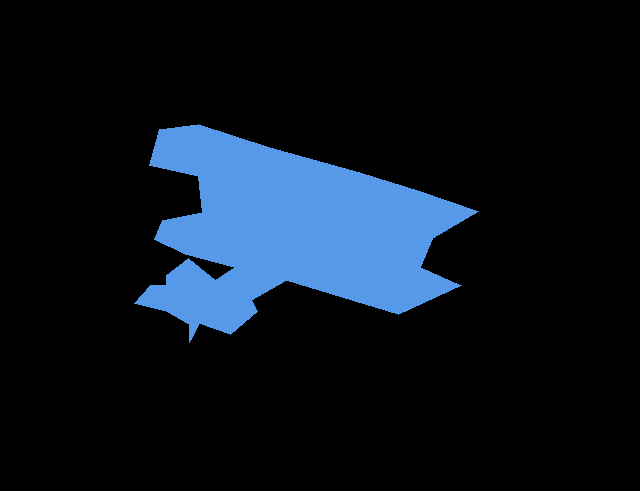Airplane: (134, 124, 479, 342)
